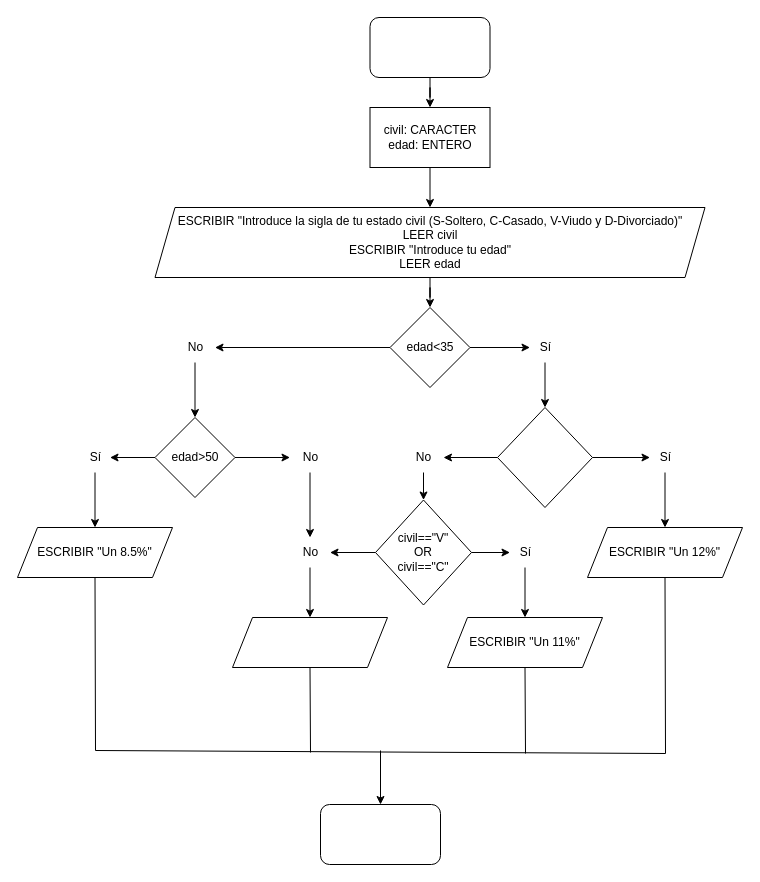
The diagram is 760 pixels wide and 882 high, and some of its shapes have lost their labels. The shapes that lost their labels are listed below. From the top down, each one's centre as x and y in pixels, then its label:
(x=429, y=47): INICIO
(x=544, y=457): civil=="S" OR civil=="D"
(x=310, y=642): ESCRIBIR "Un 10.5%"
(x=380, y=834): FIN
